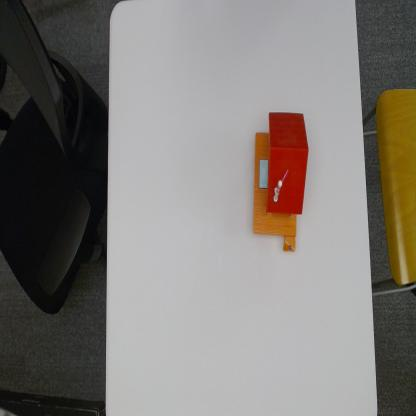House: (250, 108, 310, 254)
